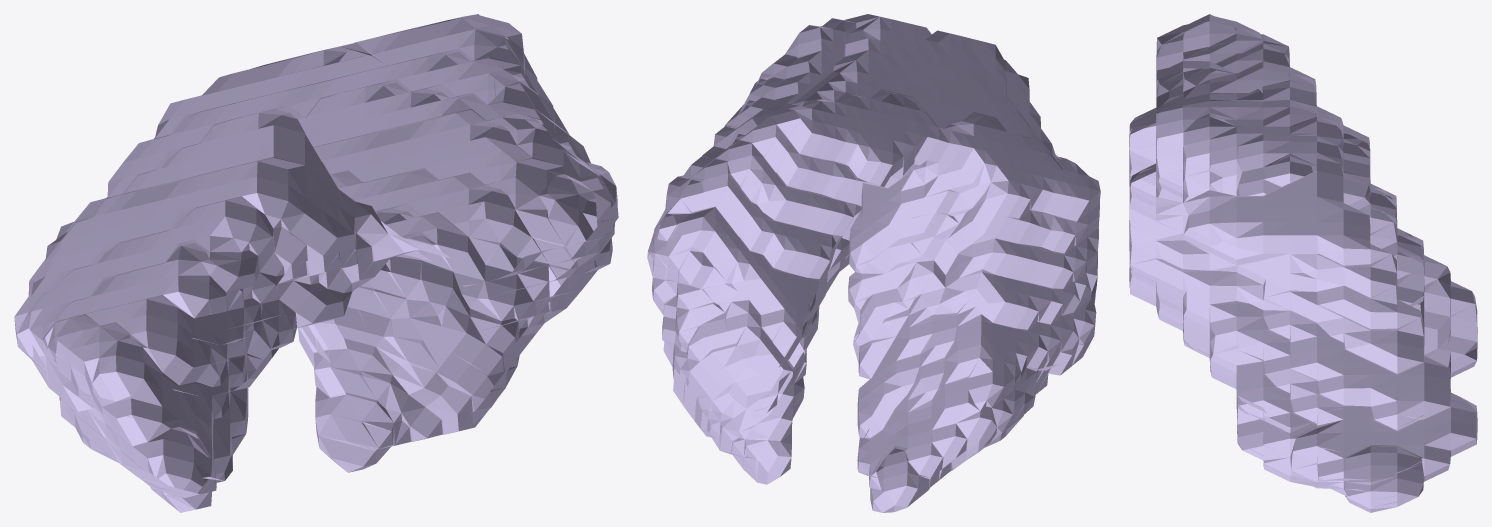
The model's file is VFB_00102274.glb.
3 views of the same model, side by side, from view 1: azimuth 30°, elevation 25°; view 2: azimuth 150°, elevation 25°; view 3: azimuth 270°, elevation 25° (orthographic). The views are drawn at different scales.
Visible parts, largest first — view 1: VFB_00102274; view 2: VFB_00102274; view 3: VFB_00102274.
Boxes of the visible parts, x1,y1,x2,y2 form: VFB_00102274: (14, 14, 618, 512); VFB_00102274: (647, 14, 1100, 512); VFB_00102274: (1129, 14, 1477, 512).
Bounding box in the file's own units: 0.0783 × 0.0686 × 0.051.
